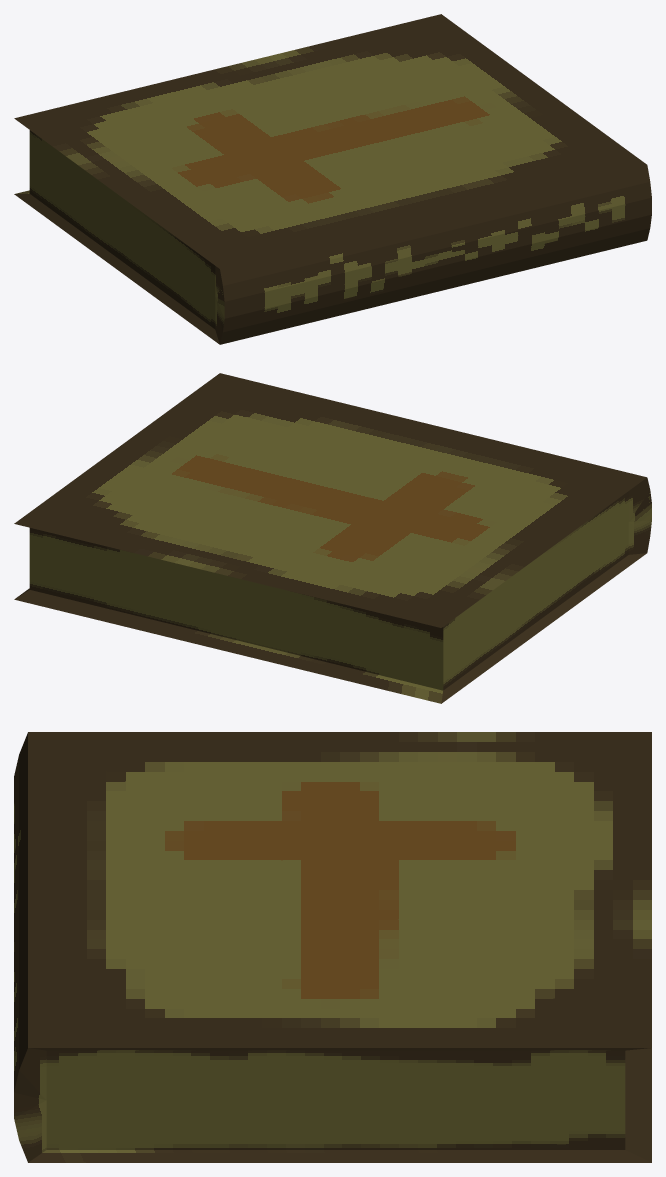
Rendered from Rapture_bible.glb.
The picture shows the model from 3 angles, top to bottom: view 1: azimuth 30°, elevation 25°; view 2: azimuth 150°, elevation 25°; view 3: azimuth 270°, elevation 25°; orthographic projection. The views are drawn at different scales.
Visible parts, largest first — view 1: book; view 2: book; view 3: book.
Part boxes in pixels (x1,y1,x2,y2): book: (14, 14, 651, 344); book: (14, 373, 651, 703); book: (14, 732, 651, 1162).
Size of the model in its own units: 6.95 by 1.18 by 5.93.
Materials: 1 (1 with a texture image).
